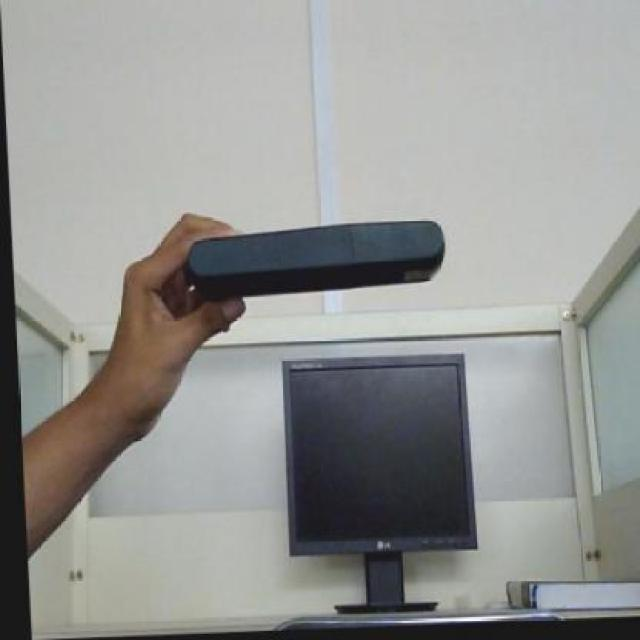Plastic: (186, 214, 454, 313)
